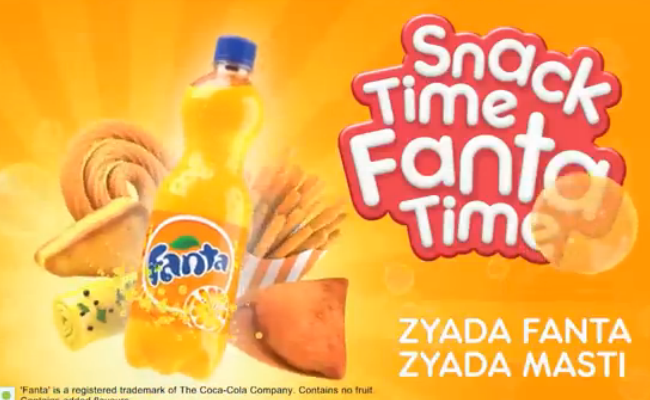Fanta: (130, 30, 247, 375)
